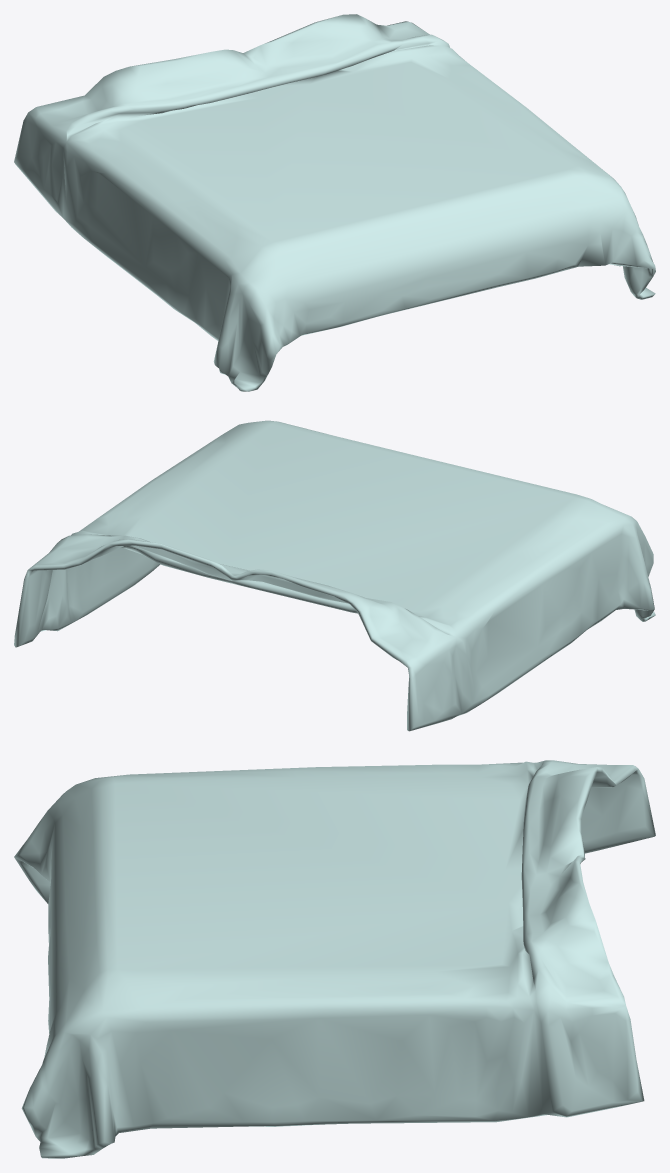
Rendered from SM_Bed_01b.fbx.
The picture shows the model from 3 angles, top to bottom: view 1: azimuth 30°, elevation 25°; view 2: azimuth 150°, elevation 25°; view 3: azimuth 270°, elevation 25°; orthographic projection. The views are drawn at different scales.
Parts seen in each view (by area): view 1: SM_Bed_01b; view 2: SM_Bed_01b; view 3: SM_Bed_01b.
Boxes of the visible parts, left/top/right/bottom form: SM_Bed_01b: left=14, top=14, right=655, bottom=391; SM_Bed_01b: left=14, top=420, right=655, bottom=731; SM_Bed_01b: left=14, top=760, right=655, bottom=1158.
Bounding box in the file's own units: 199 × 67.38 × 199.
